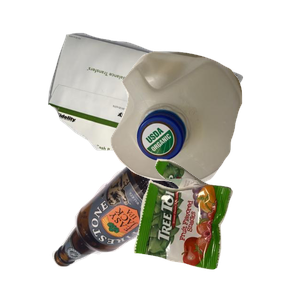glass: (49, 145, 229, 300)
paper: (45, 30, 281, 195)
plastic: (108, 49, 300, 226)
trash: (131, 156, 300, 300)
